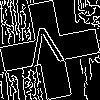V: (25, 25, 66, 77)
